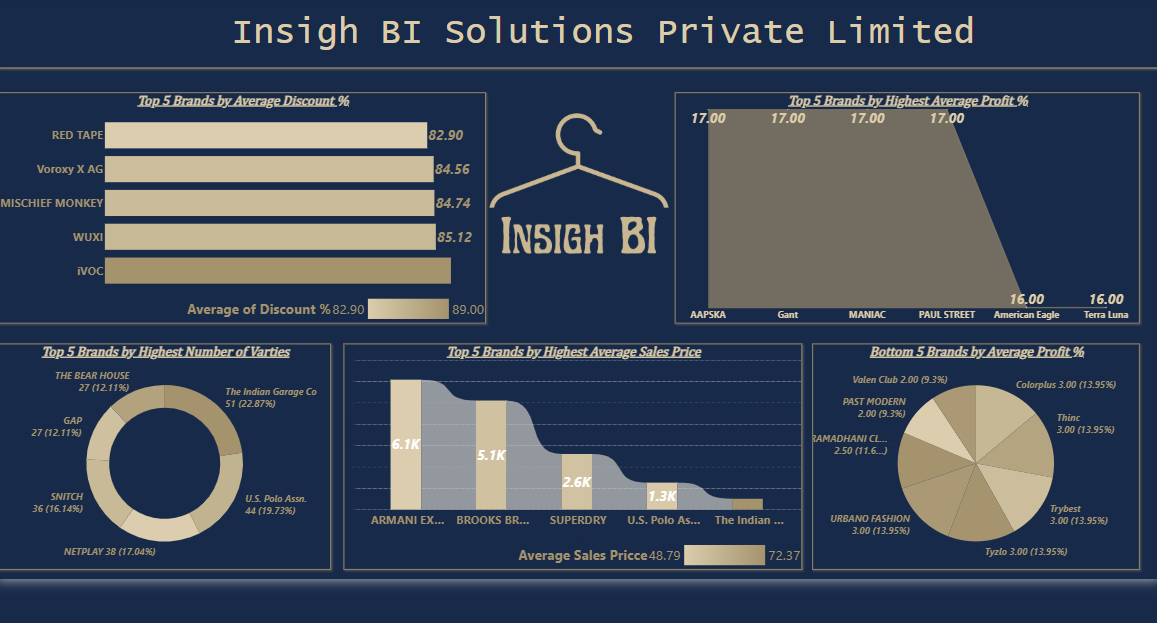

This screenshot's page, from the dashboard's own definition file:
{"tool":"powerbi","page":{"name":"Details dashboard","canvas":[6912,3456],"ordinal":1},"visuals":[{"type":"ScrollingTextVisual1448795304508","fields":{"Category":["Men+Tshirt.Brand"]},"box":[14.8,0,6898.7,429.8],"z":0},{"type":"barChart","title":"Top 5 Brands by Average Discount %","fields":{"Category":["Men+Tshirt.Brand"],"Y":["Avg(Men+Tshirt.Discount %)"]},"box":[14.8,570.6,2889.9,1370.8],"z":1000},{"type":"donutChart","title":"Top 5 Brands by Highest Number of Varties","fields":{"Category":["Men+Tshirt.Brand"],"Y":["Count(Men+Tshirt.Title)"]},"box":[14.8,2060,1971.1,1341.2],"z":2000},{"type":"ribbonChart","title":"Top 5 Brands by Highest Average Sales Price","fields":{"Y":["Avg(Men+Tshirt.Sales Price)"],"Category":["Men+Tshirt.Brand"]},"box":[2060,2060,2719.5,1341.2],"z":3000},{"type":"areaChart","title":"Top 5 Brands by Highest Average Profit %","fields":{"Category":["Men+Tshirt.Brand"],"Y":["Avg(Men+Tshirt.PROFIT %)"]},"box":[4023.6,570.6,2756.5,1370.8],"z":4000},{"type":"pieChart","title":"Bottom 5 Brands by Average Profit %","fields":{"Category":["Men+Tshirt.Brand"],"Y":["Avg(Men+Tshirt.PROFIT %)"]},"box":[4838.7,2060,1941.4,1341.2],"z":5000}]}

Visuals, with their boxes on the page's 6912x3456 design canvas (x1, y1, x2, y2). These are canvas units, not pixel positions in the 1157x623 screenshot, which may show the page scaled, cropped or inside an application window:
ScrollingTextVisual1448795304508 - Men+Tshirt.Brand: x1=15, y1=0, x2=6914, y2=430
"Top 5 Brands by Average Discount %" barChart: x1=15, y1=571, x2=2905, y2=1941
"Top 5 Brands by Highest Number of Varties" donutChart: x1=15, y1=2060, x2=1986, y2=3401
"Top 5 Brands by Highest Average Sales Price" ribbonChart: x1=2060, y1=2060, x2=4780, y2=3401
"Top 5 Brands by Highest Average Profit %" areaChart: x1=4024, y1=571, x2=6780, y2=1941
"Bottom 5 Brands by Average Profit %" pieChart: x1=4839, y1=2060, x2=6780, y2=3401
